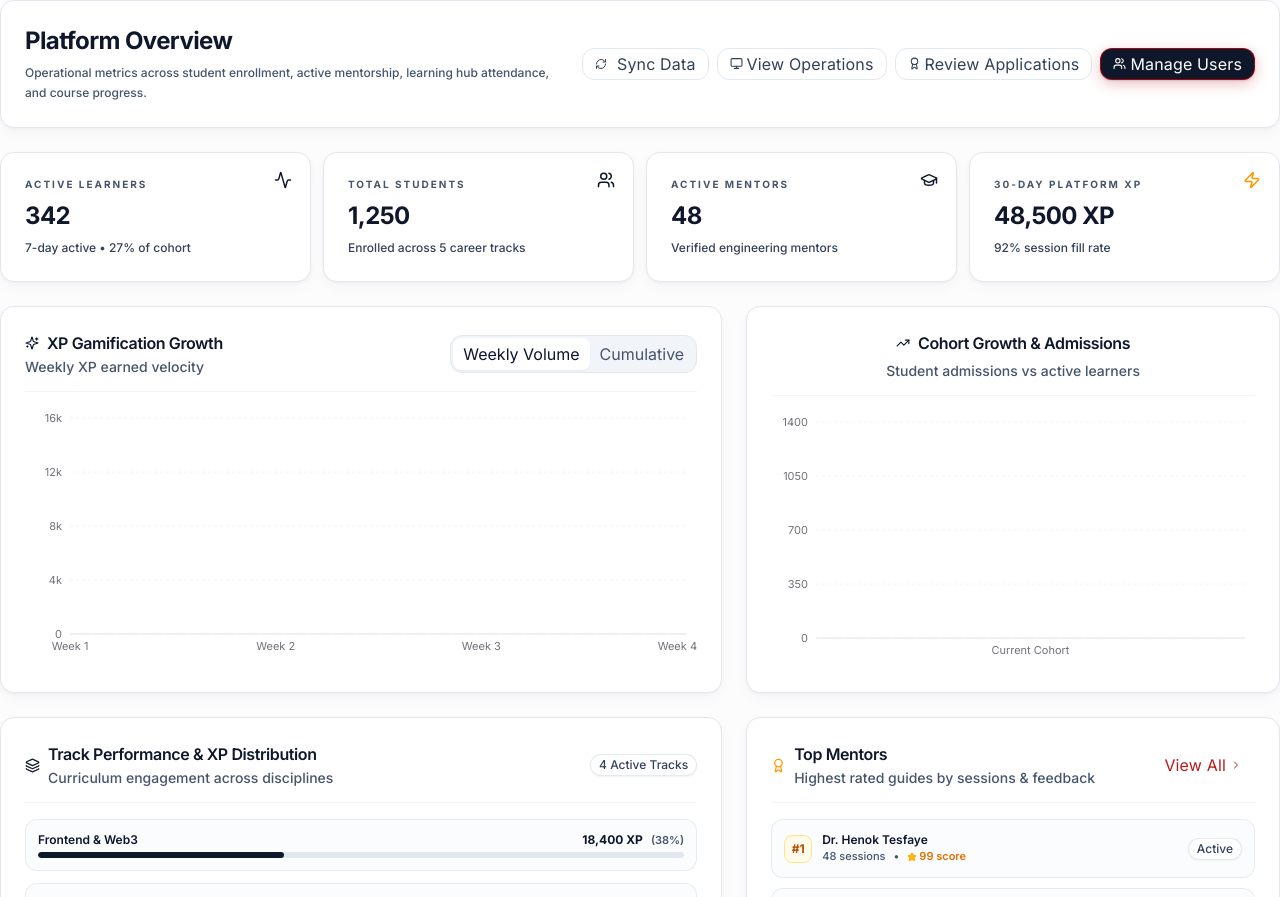
Test: AdminPage Component Suite › toggles XP growth chart view between weekly volume and cumulative
The width and height of the screenshot is (1280, 897).
Click the button "Cumulative".
click(642, 354)  # box [590,338,694,370]
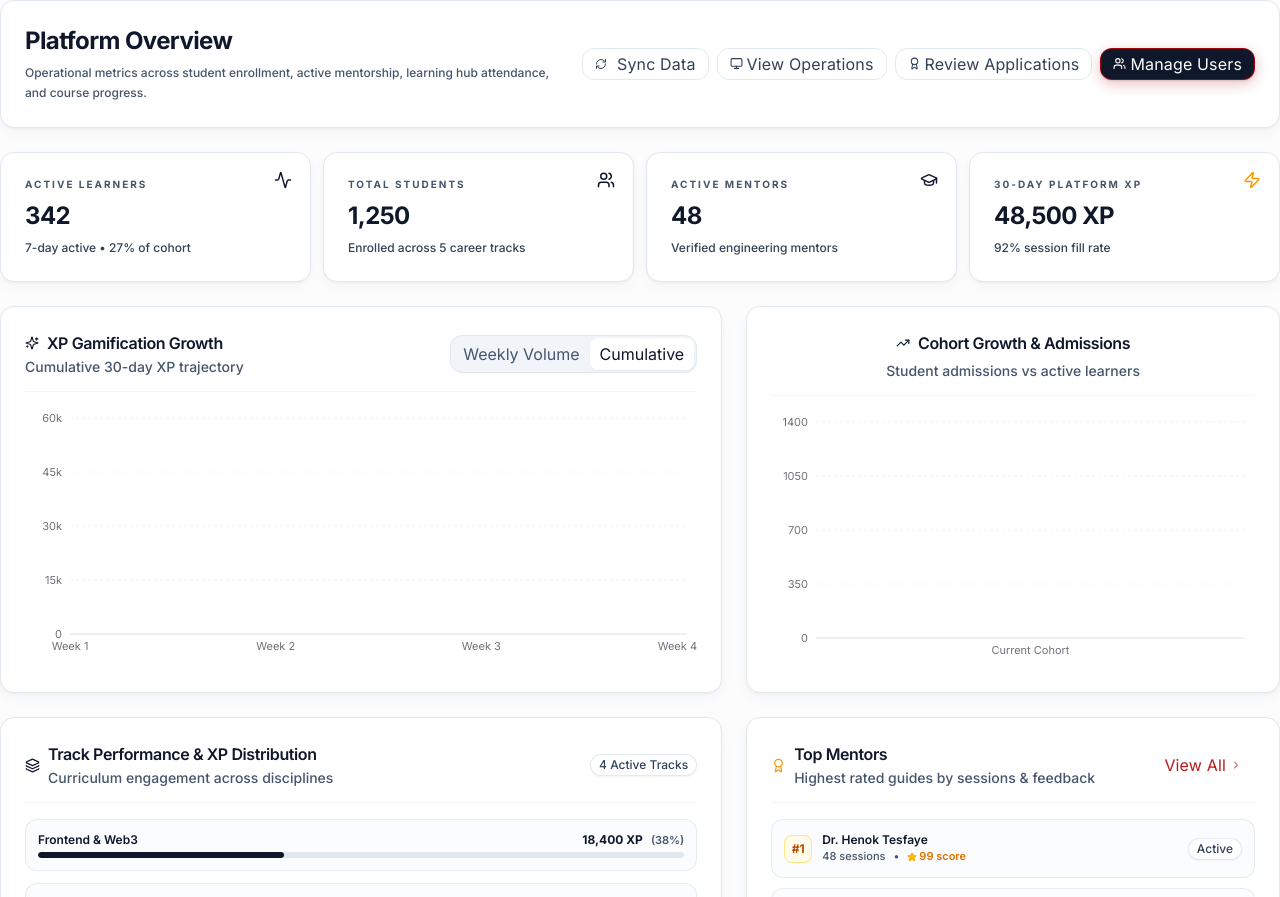
Now the text "Cumulative 30-day XP trajectory" is shown, box [25,357,244,377]
Click the button "Weekly Volume".
click(521, 354)  # box [453,338,590,370]
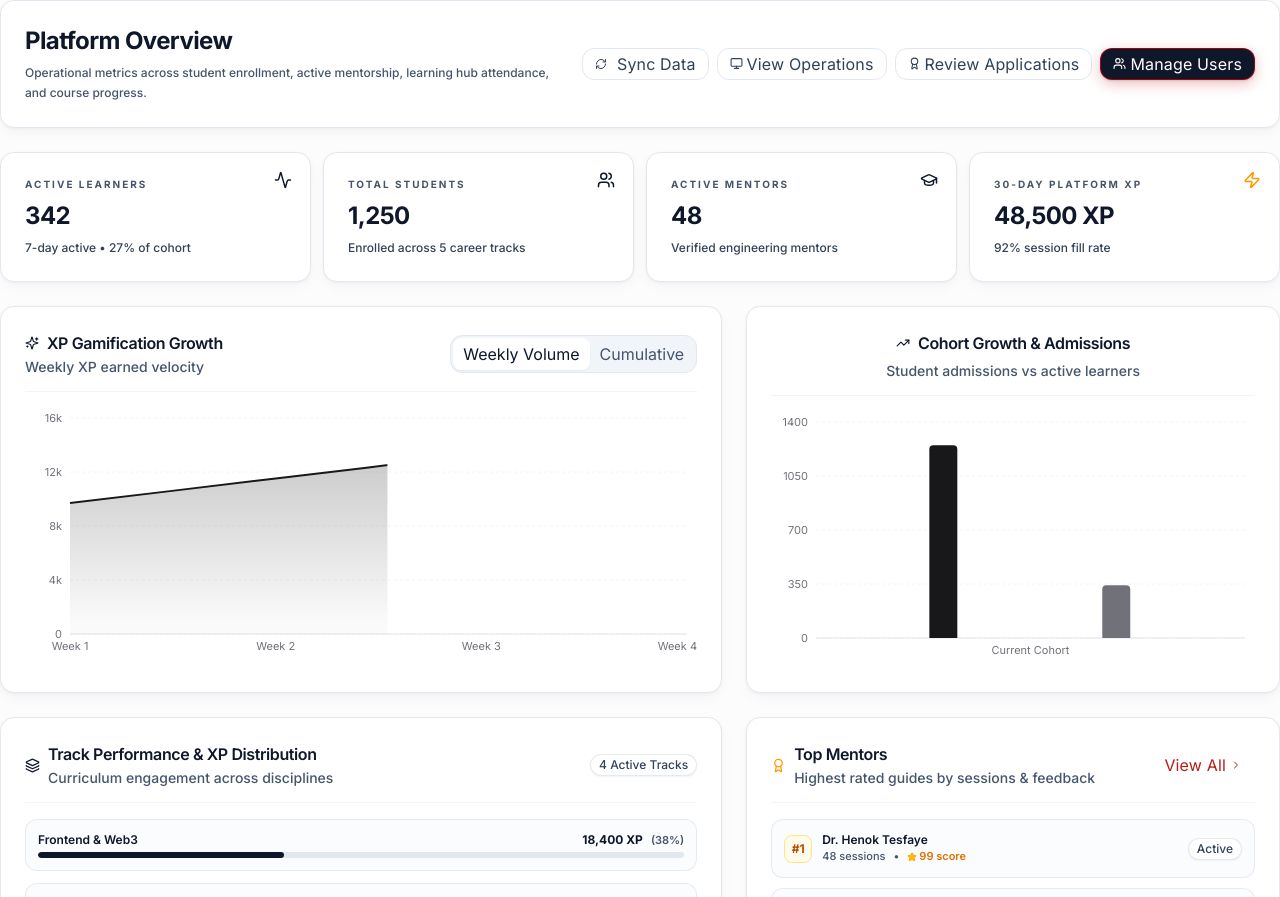
Now the text "Weekly XP earned velocity" is shown, box [25,357,223,377]
